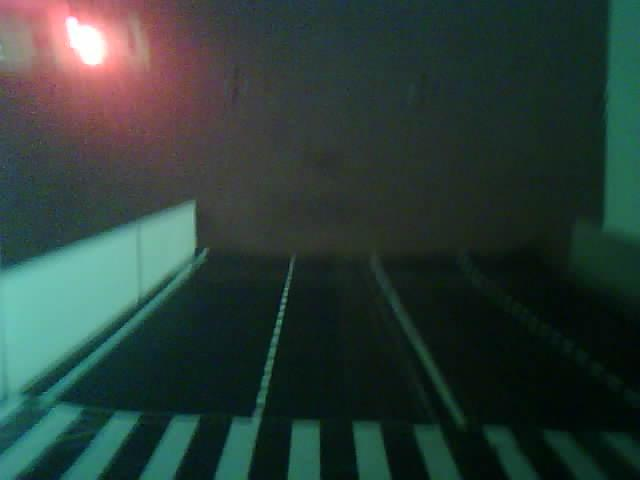crosswalk: (0, 364, 640, 480)
red: (0, 0, 196, 137)
